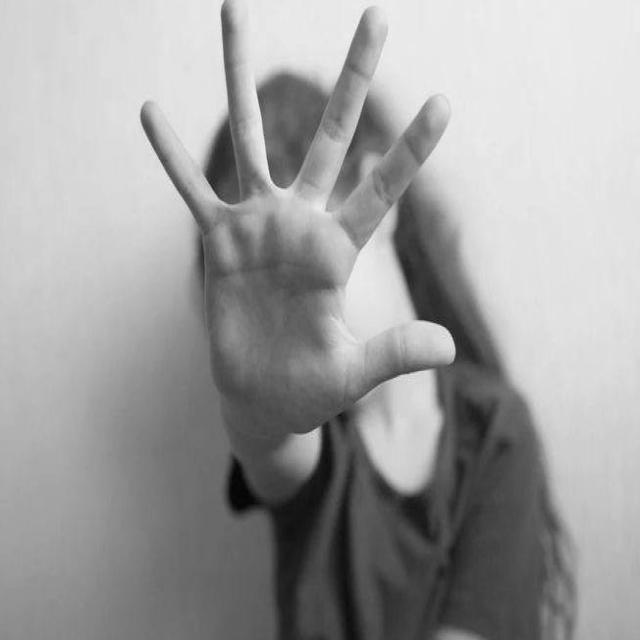stop: (134, 0, 463, 433)
